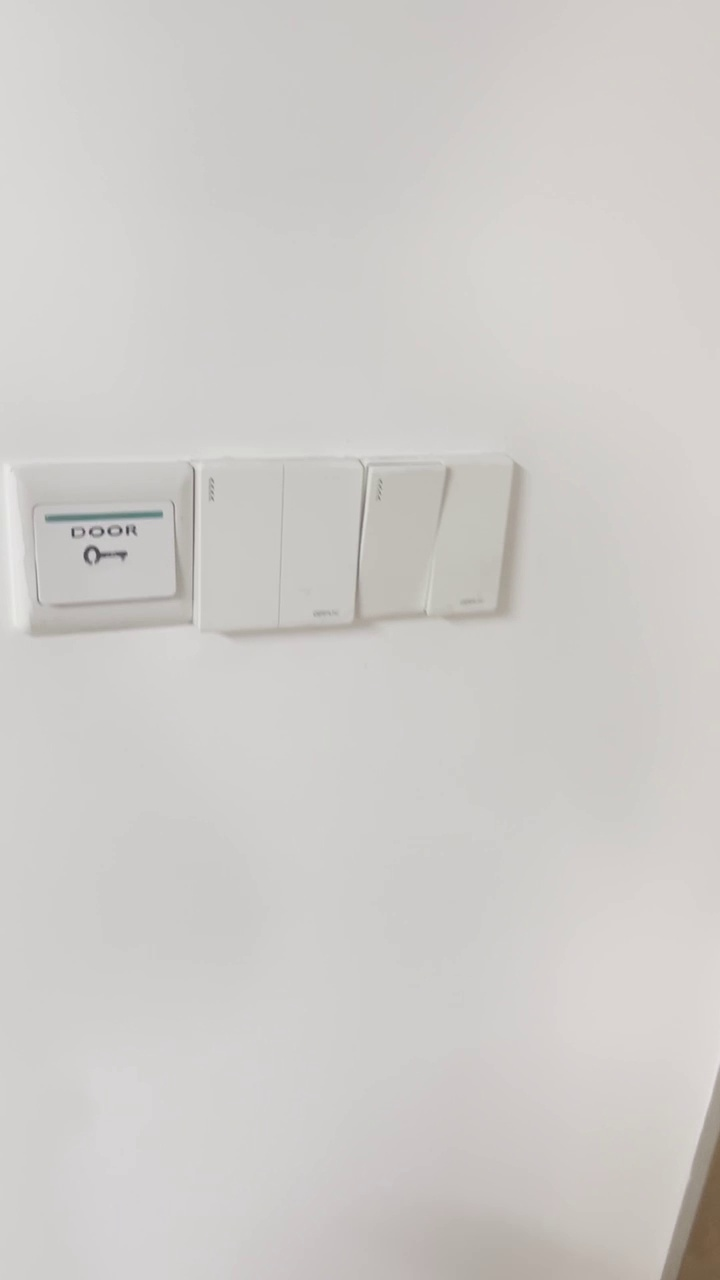button: (193, 453, 363, 633), (358, 456, 521, 622)
